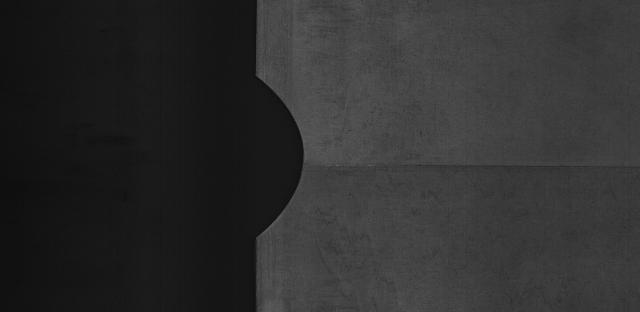welding_line: (290, 151, 640, 181)
